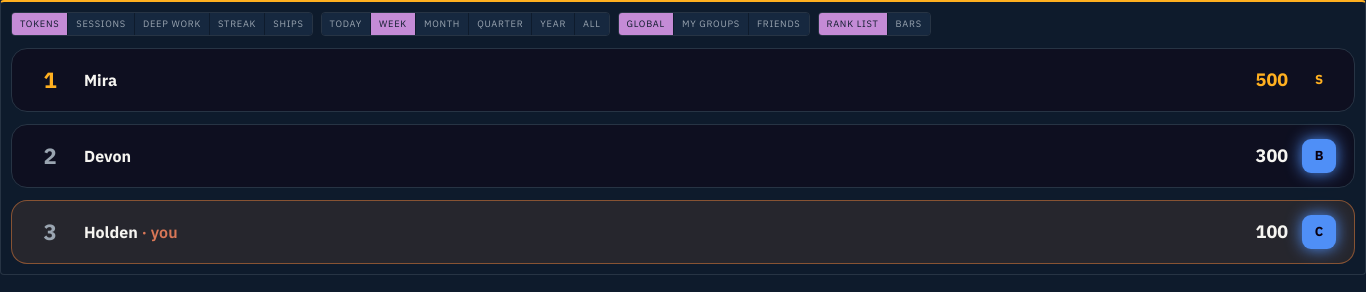
Test: Leaderboard › switches to the bar-comparison view
What coordinates should you click on to do the following:
click the radio button labelled "bars"
I would click on:
 (909, 24)
Its box is [888,13,930,35].
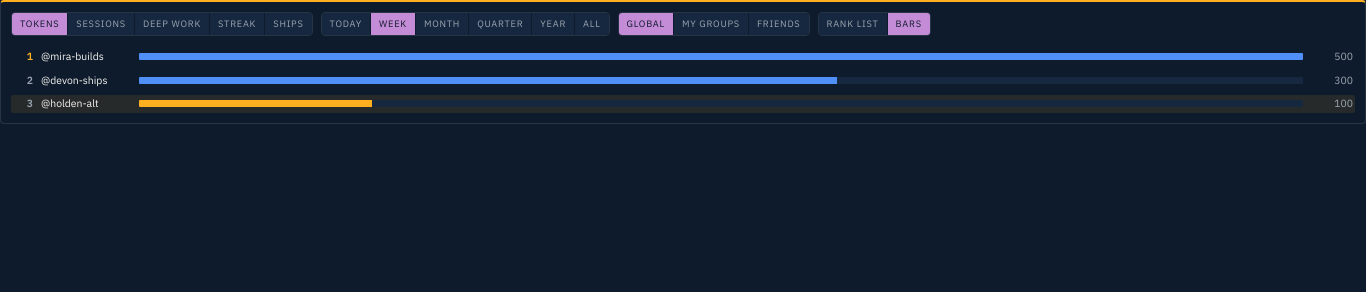
Now the number of list items is 3, box [11,48,1355,66]; [11,72,1355,89]; [11,95,1355,113]
